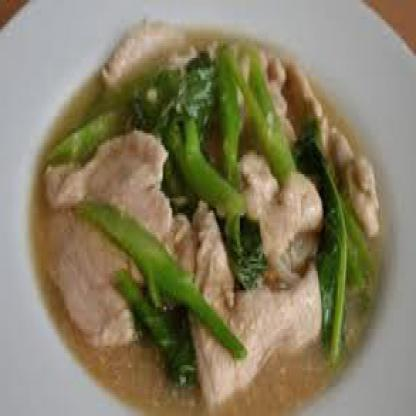Laadna: (20, 18, 386, 414)
